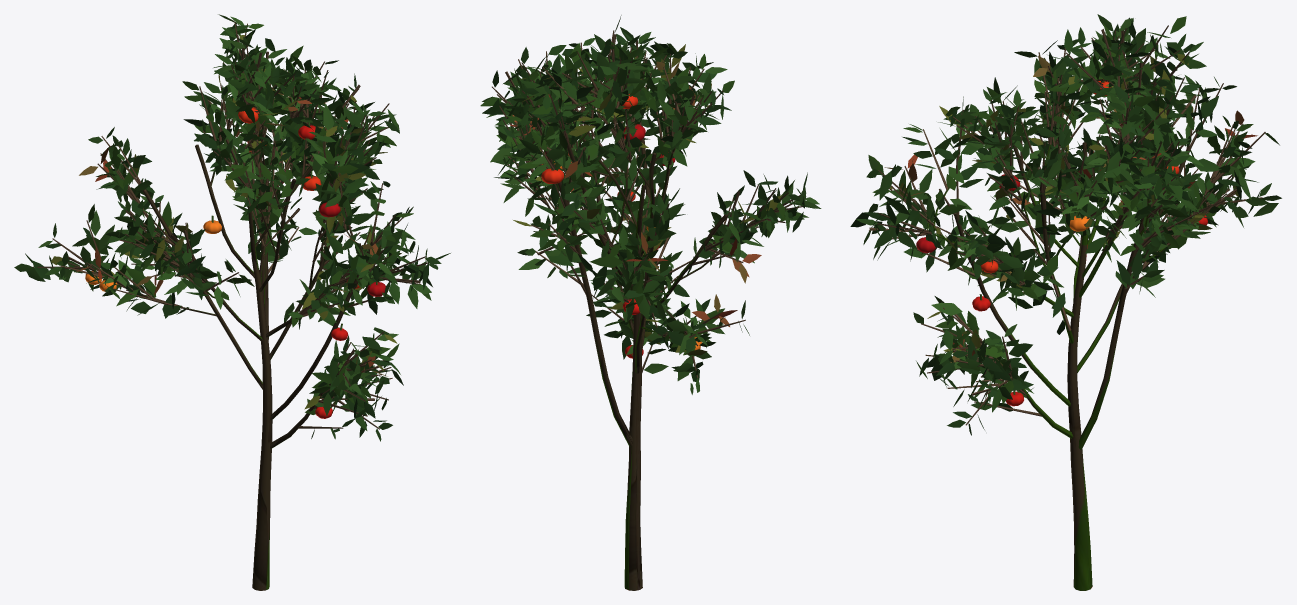
File: pitangueira_folhas_5anos.glb
3 renders of one model, left to right at view 1: azimuth 30°, elevation 25°; view 2: azimuth 150°, elevation 25°; view 3: azimuth 270°, elevation 25°, orthographic. The views are drawn at different scales.
Parts seen in each view (by area): view 1: Pitangueira; view 2: Pitangueira; view 3: Pitangueira.
Part boxes in pixels (x1=…): Pitangueira: x1=14, y1=14, x2=450, y2=590; Pitangueira: x1=480, y1=15, x2=821, y2=590; Pitangueira: x1=850, y1=14, x2=1281, y2=590.
Size of the model in its own units: 0.6328 by 1.1 by 0.7509.
Materials: 9 (3 with a texture image).
